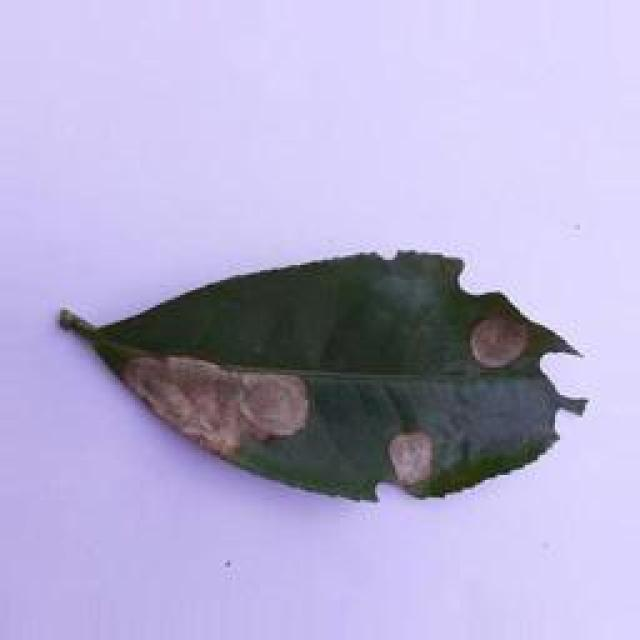Gray Blight: (53, 249, 586, 500)
